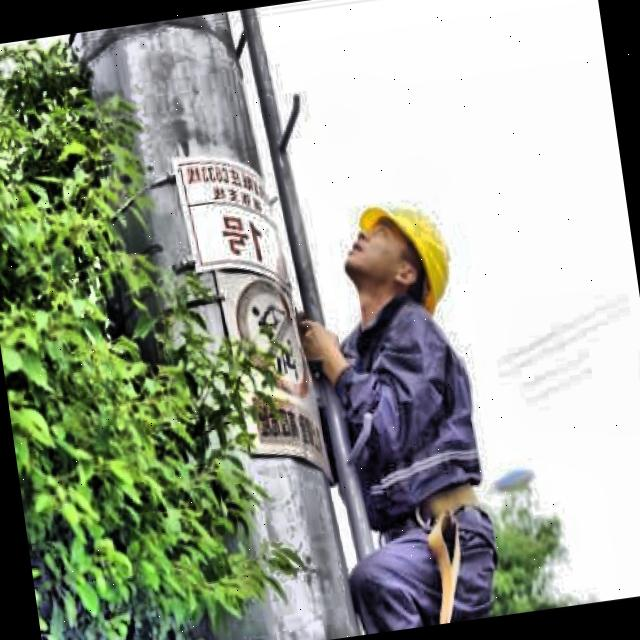helmet: (331, 185, 457, 325)
